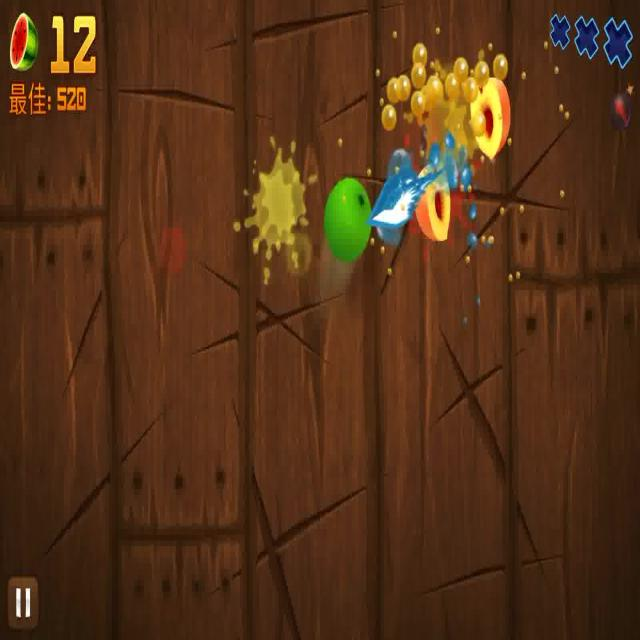fruit: (321, 175, 375, 262), (415, 160, 454, 248), (472, 73, 511, 159)
